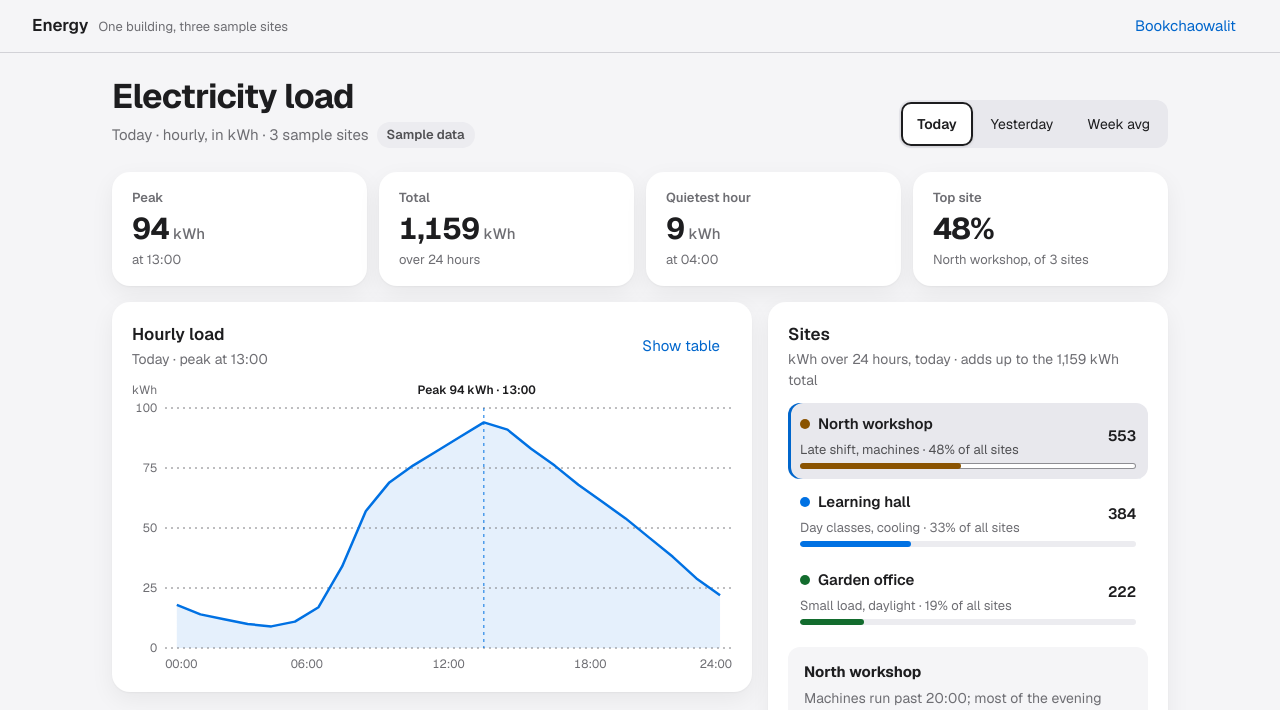
it: energy dashboard › switches the period and recomputes every figure
Later steps or results of the test are not shown.
Click the button "Week avg". click: coordinates (1119, 124)
box: [1071,102,1166,146]
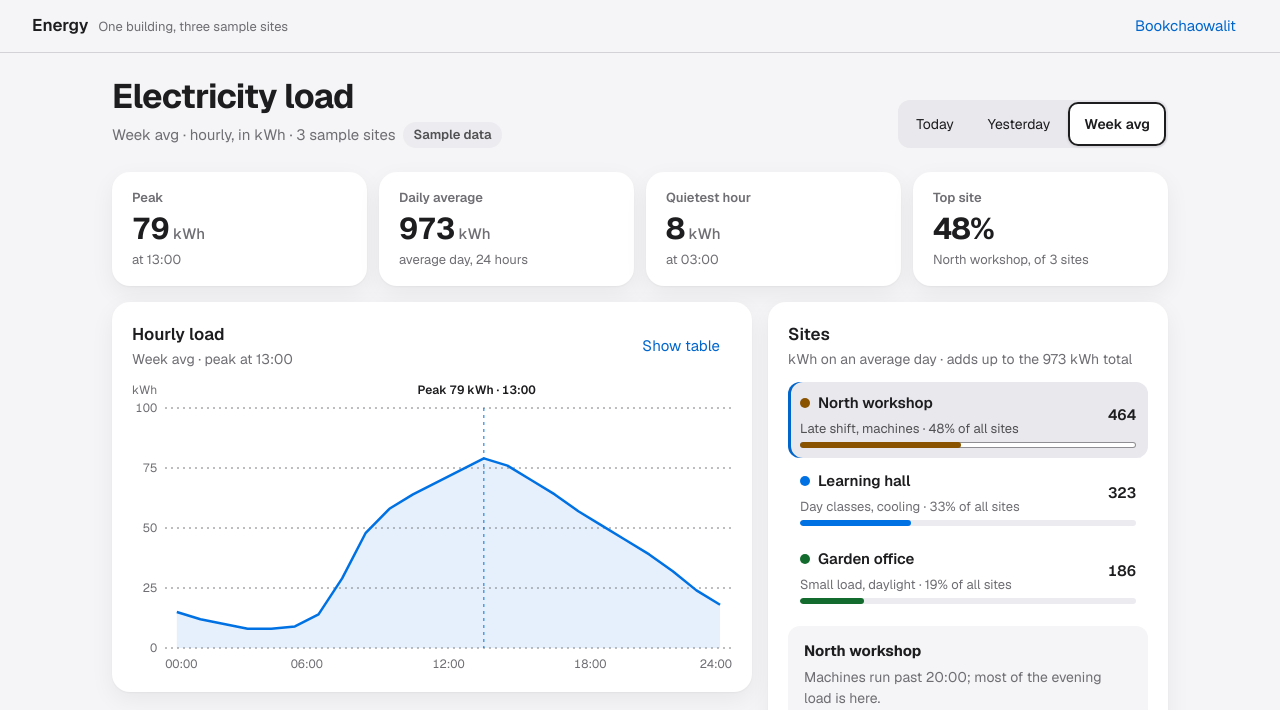
Expected: the list item with class "ds-stat" reads "Peak 79kWh at 13:00", [112,172,367,286]
Expected: the list item with class "ds-stat" reads "Daily average 973kWh average day, 24 hours", [379,172,634,286]
Expected: the text "kWh on an average day · adds up to the 973 kWh total" is shown, [788,349,1132,370]
Click the button "Yesterday". click: coordinates (1019, 124)
box: [972,102,1066,146]
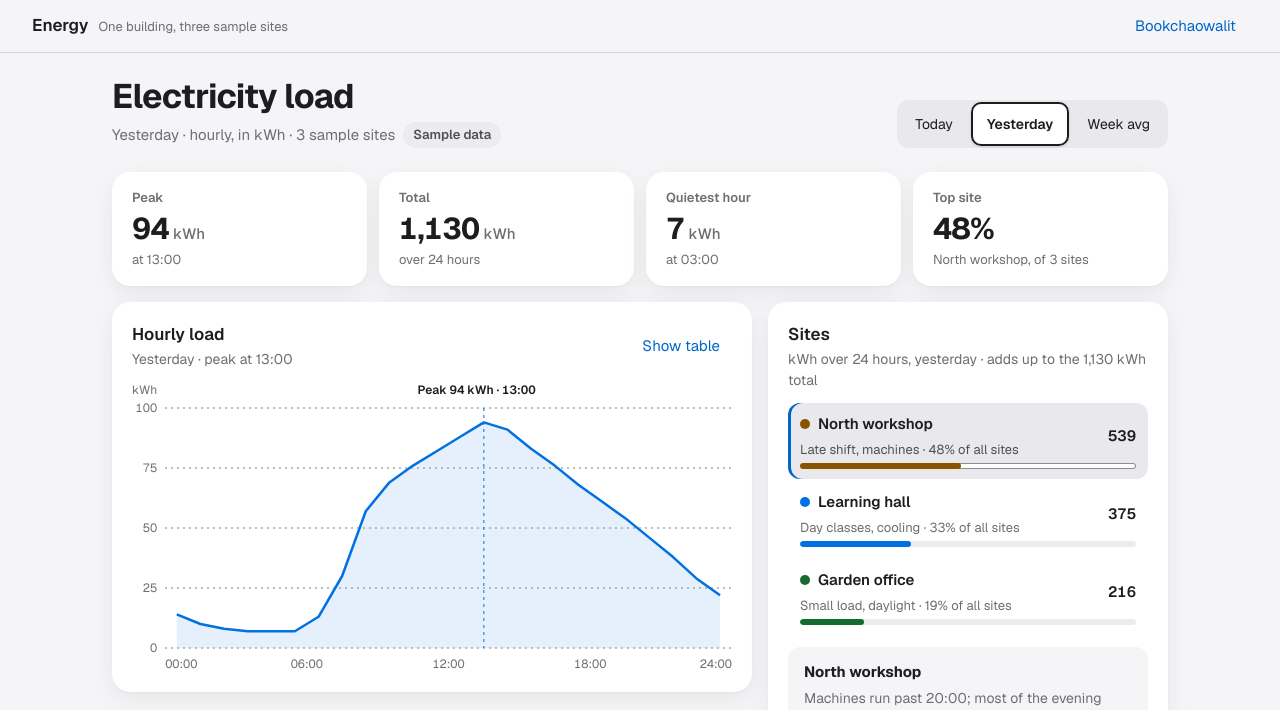
Expected: the list item with class "ds-stat" reads "Quietest hour 7kWh at 03:00", [646,172,901,286]
Expected: the list item with class "ds-stat" reads "Total 1,130kWh over 24 hours", [379,172,634,286]
Expected: the text "kWh over 24 hours, yesterday · adds up to the 1,130 kWh total" is shown, [788,349,1148,391]
